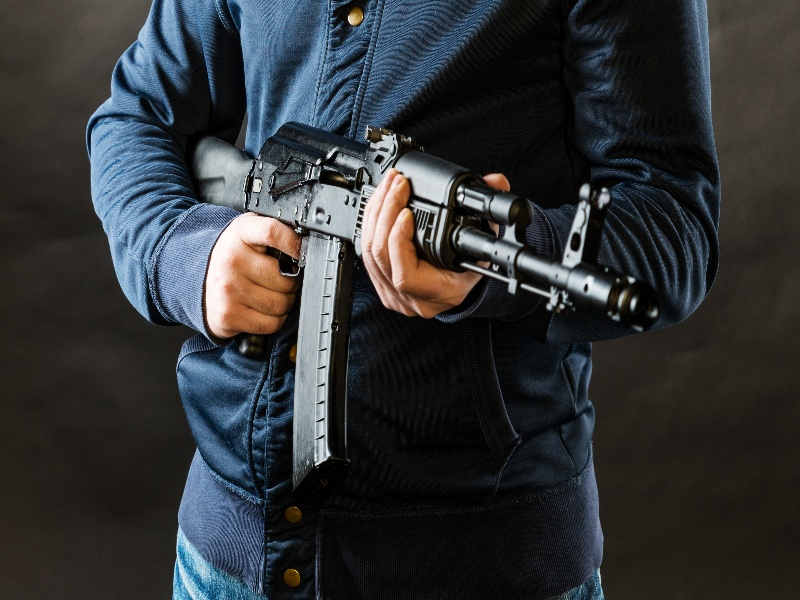person: (86, 1, 721, 600)
weapon: (192, 122, 662, 494)
